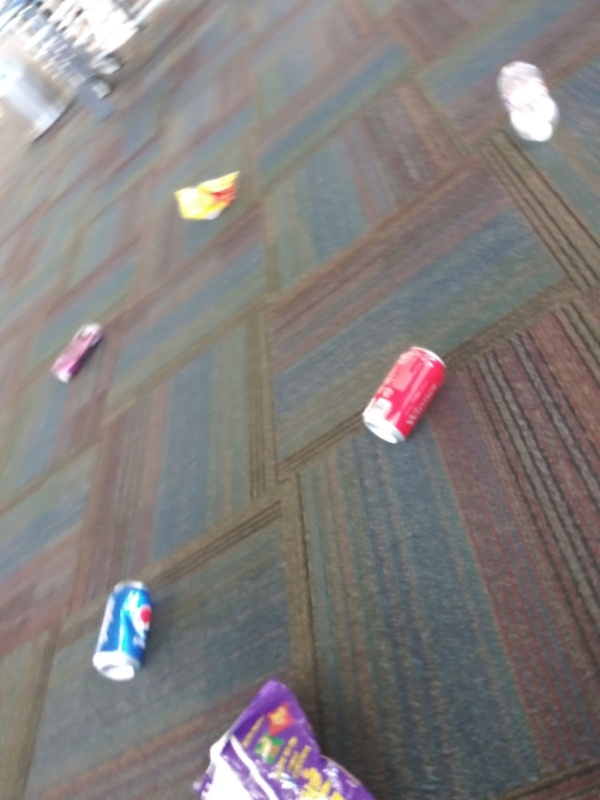bag: (178, 674, 390, 800), (172, 170, 245, 221)
bottle: (493, 57, 563, 146)
can: (356, 342, 451, 450), (86, 576, 156, 686), (46, 316, 110, 387)
